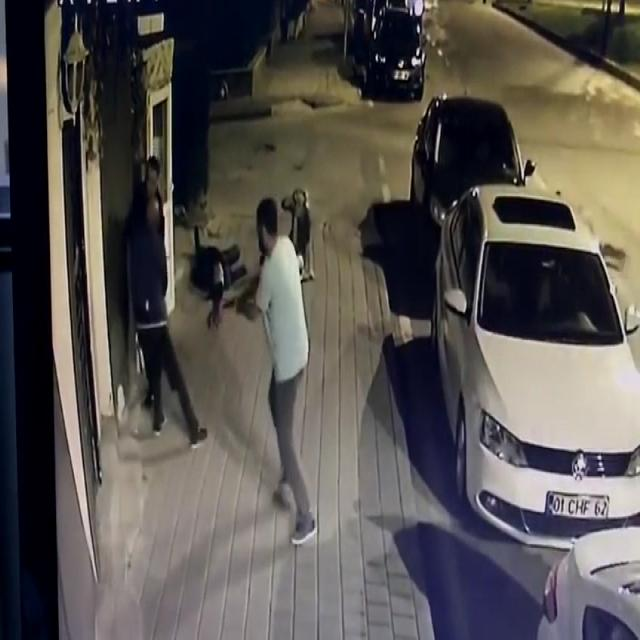fight: (123, 151, 209, 452)
